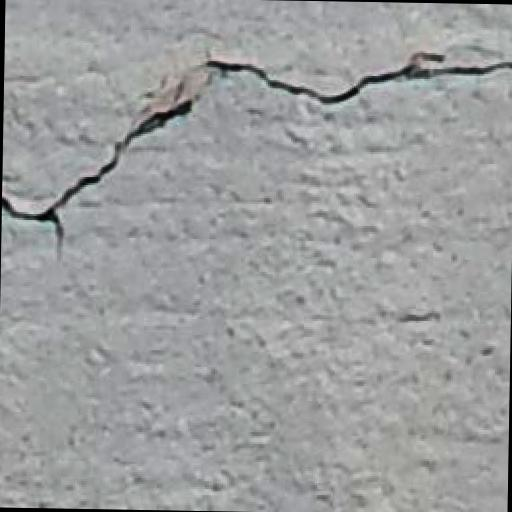spalling: (6, 41, 507, 238)
